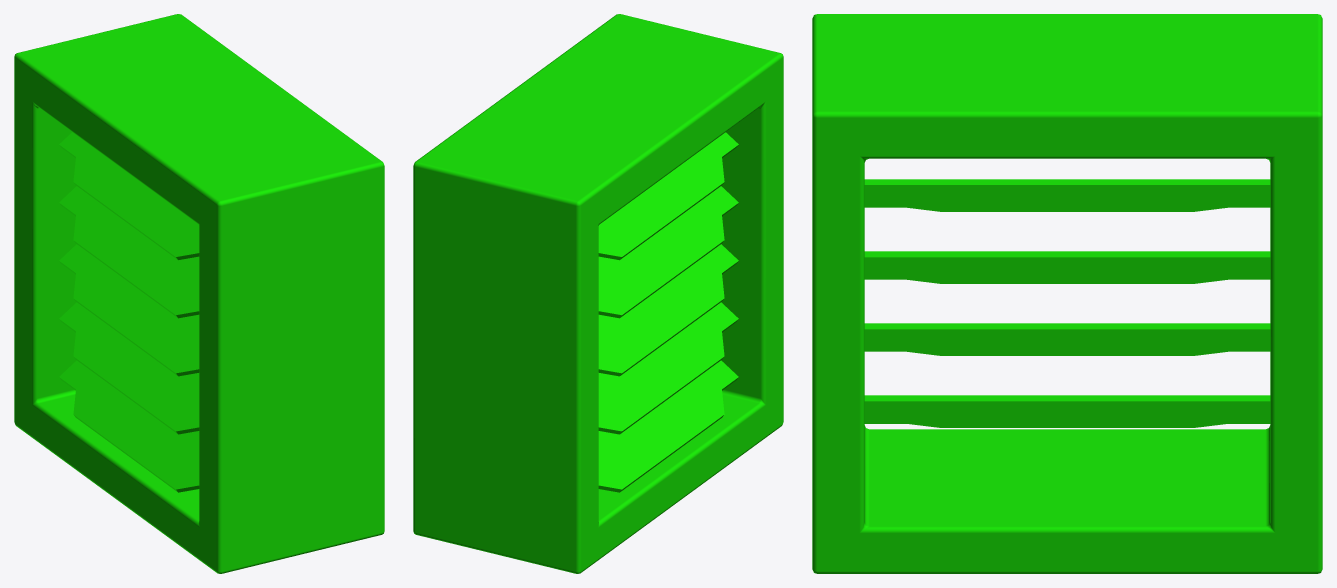
The model's file is SM_VentFanShrd.fbx.
The picture shows the model from 3 angles, left to right: view 1: azimuth 30°, elevation 25°; view 2: azimuth 150°, elevation 25°; view 3: azimuth 270°, elevation 25°; orthographic projection. The views are drawn at different scales.
Parts seen in each view (by area): view 1: Vent, Plane; view 2: Vent, Plane; view 3: Vent, Plane.
Boxes of the visible parts, x1,y1,x2,y2 form: Vent: (14, 14, 384, 573); Plane: (59, 132, 199, 492); Vent: (413, 14, 783, 573); Plane: (598, 132, 738, 492); Vent: (812, 14, 1322, 573); Plane: (864, 179, 1270, 427).
Bounding box in the file's own units: 47 × 100 × 100.
